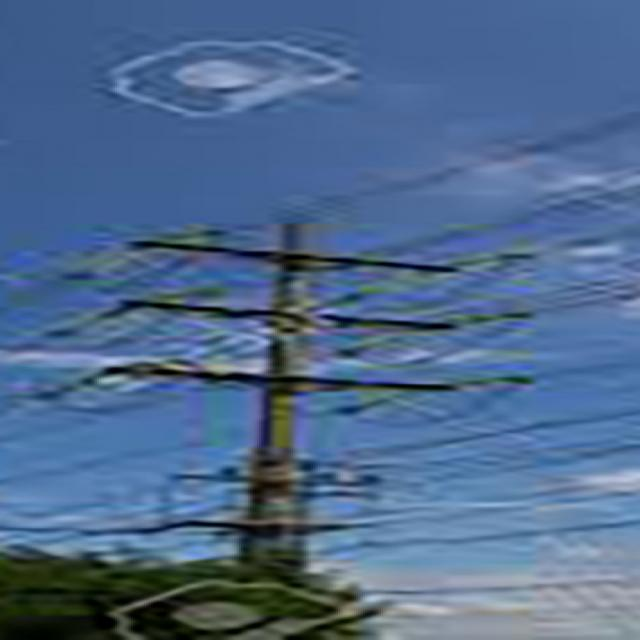pole: (80, 202, 519, 569)
